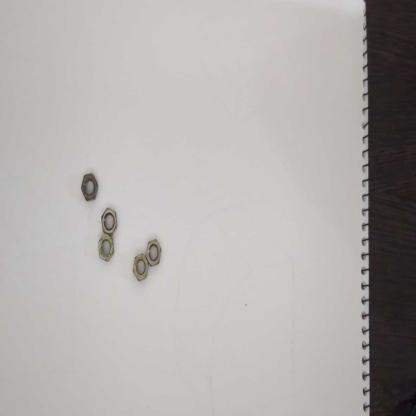NUTS: (131, 250, 150, 284), (144, 235, 164, 266), (81, 171, 98, 206), (96, 232, 114, 264), (101, 204, 118, 237)
